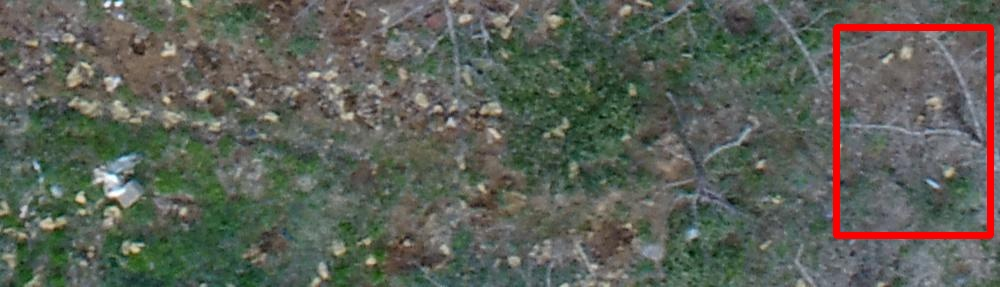apple: (836, 27, 990, 235)
